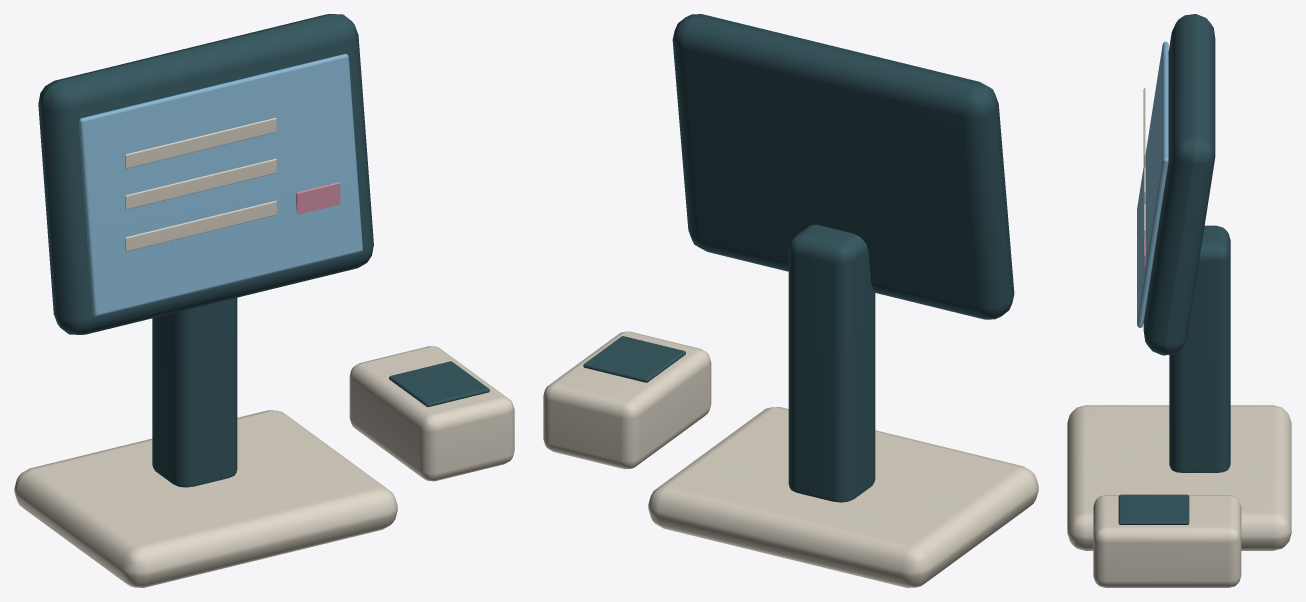
Rendered from ce_pos.glb.
The picture shows the model from 3 angles, left to right: view 1: azimuth 30°, elevation 25°; view 2: azimuth 150°, elevation 25°; view 3: azimuth 270°, elevation 25°; orthographic projection. The views are drawn at different scales.
Visible parts, largest first — view 1: prop; view 2: prop; view 3: prop.
Boxes of the visible parts, x1=… form: prop: x1=14, y1=14, x2=514, y2=587; prop: x1=543, y1=14, x2=1038, y2=587; prop: x1=1067, y1=14, x2=1291, y2=587.
Bounding box in the file's own units: 0.4315 × 0.4545 × 0.22.
